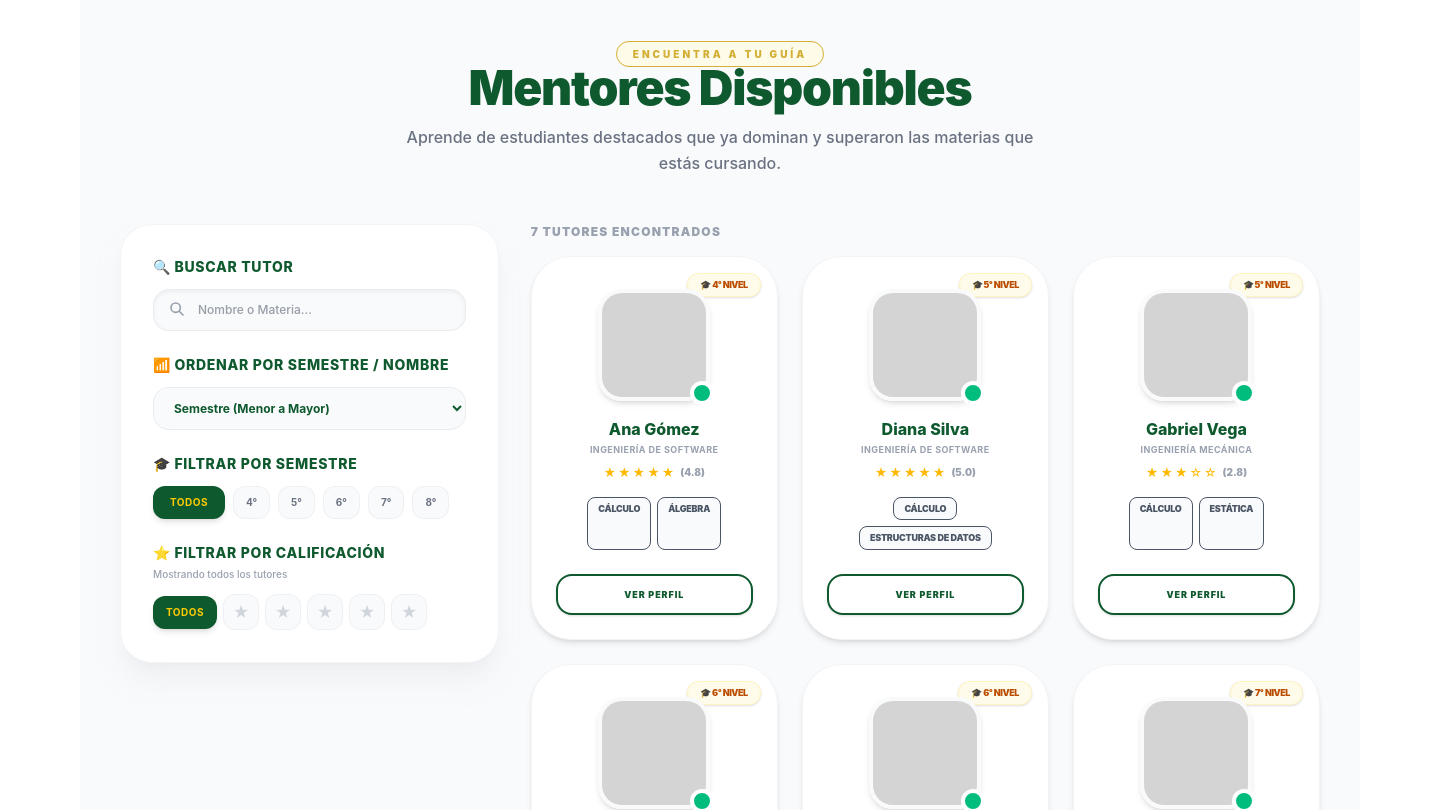
Test: BuscarTutor Page Tests › filtra por texto (nombre / materias)
Expected: the heading "Ana Gómez" is shown, [609,417,700,441]
Filtrar por nombre
In the field with placeholder "Nombre o Materia...": (309, 310) [153,289,466,331], type "Ruiz"
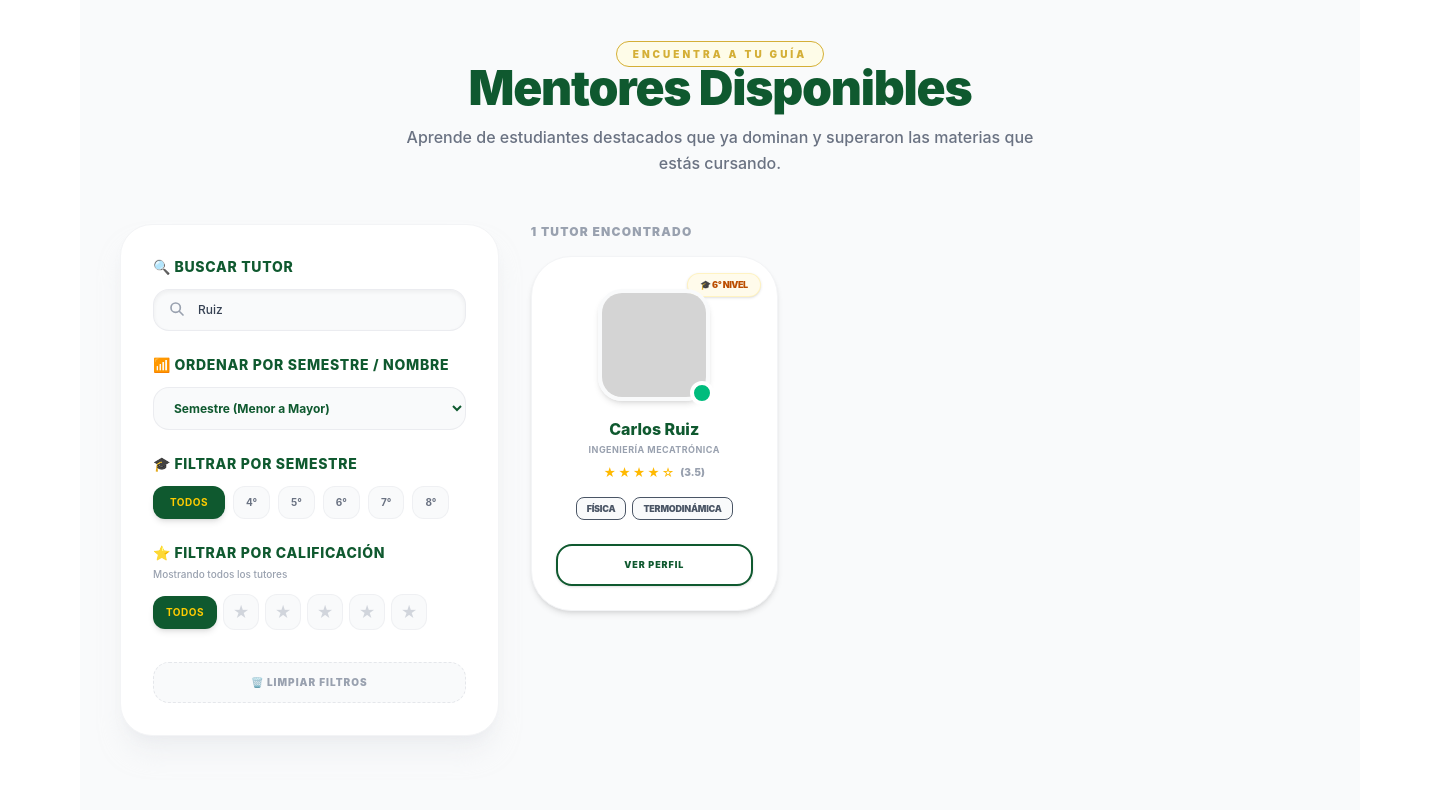
Expected: the heading "Carlos Ruiz" is shown, [609,417,699,441]
Now the heading "Ana Gómez" is gone
Filtrar por materia
Replace the text in the field with placeholder "Nombre o Materia..." with "Circuitos": (309, 310) [153,289,466,331]
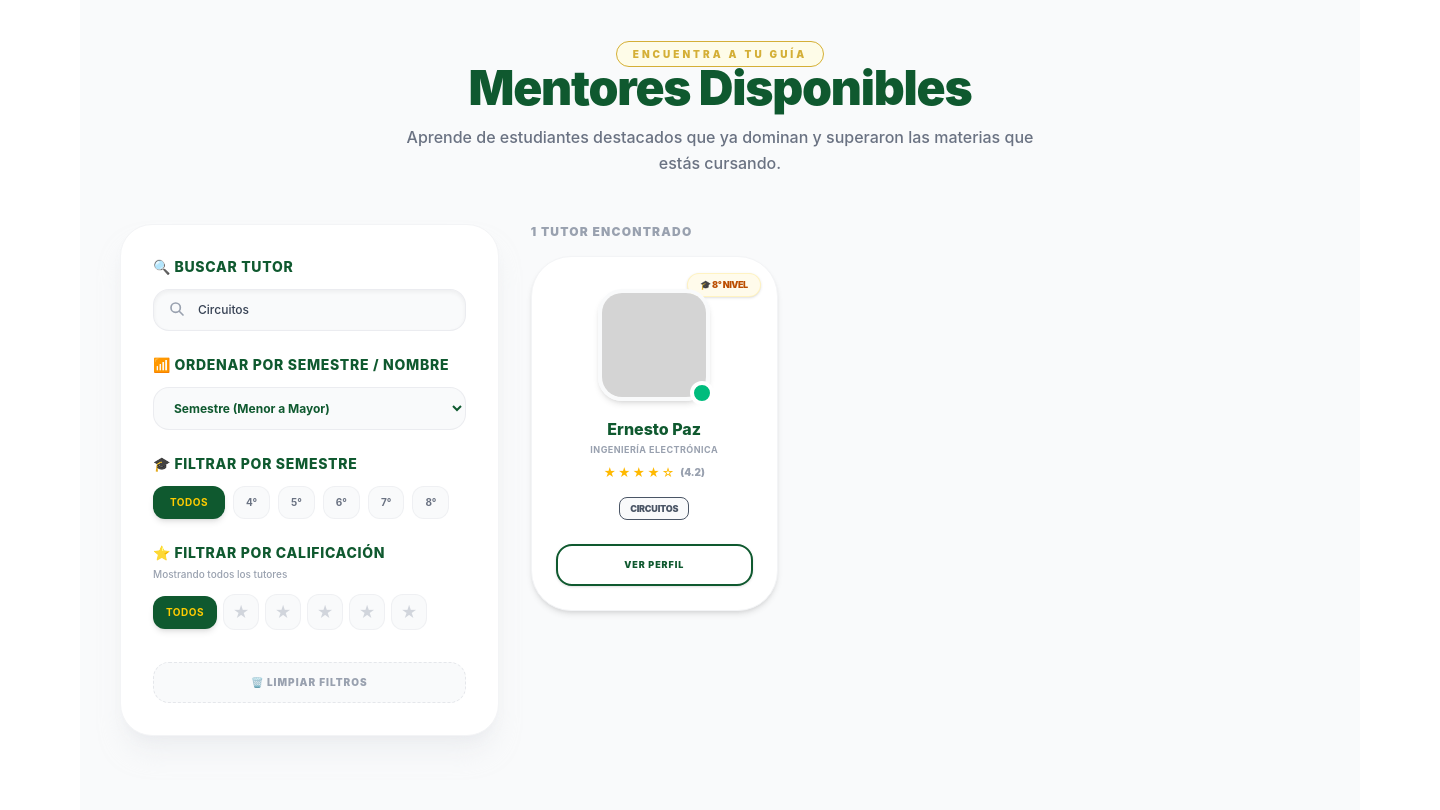
Now the heading "Ernesto Paz" is shown, box [607,417,701,441]
Now the heading "Carlos Ruiz" is gone
